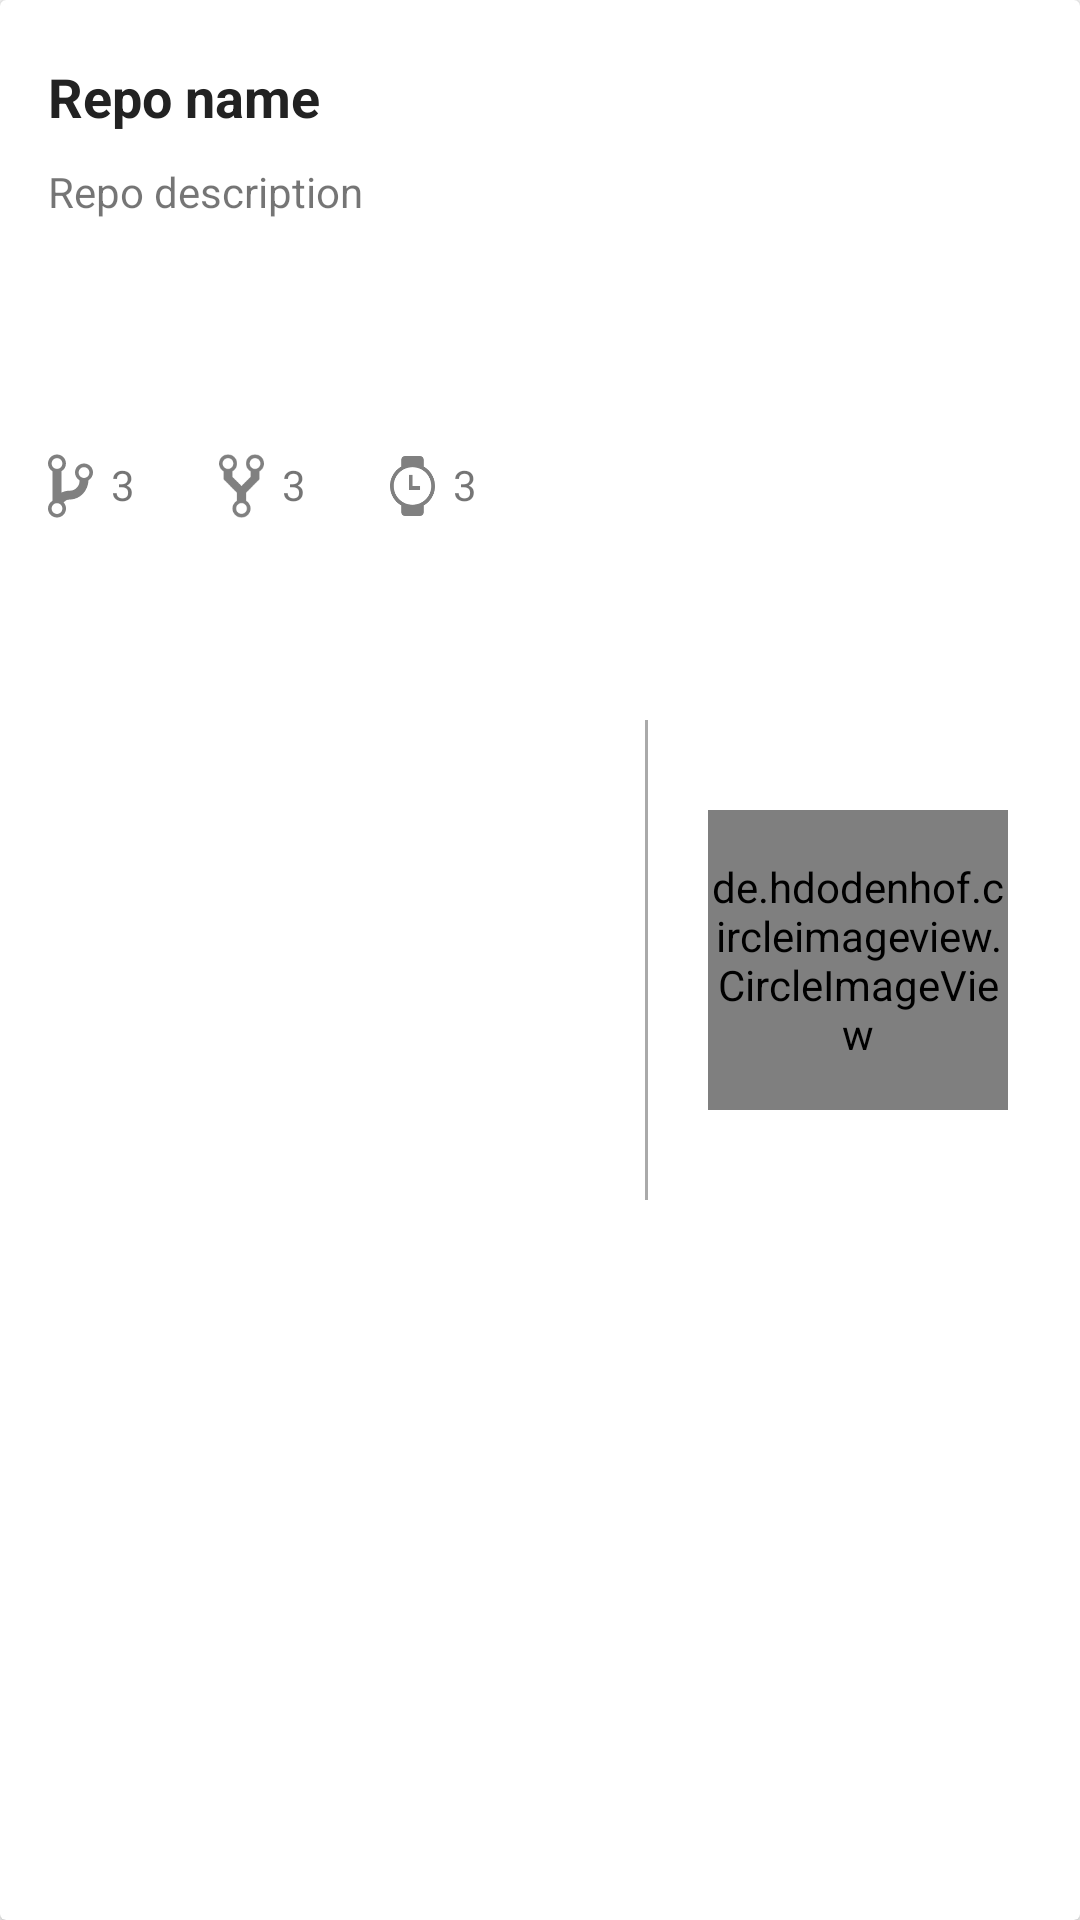

Screen size 1080px×1920px. Icon name, then its center in pixels as point (x, y):
git branch: point (70, 486)
repo forked: point (241, 486)
watch: point (412, 486)
